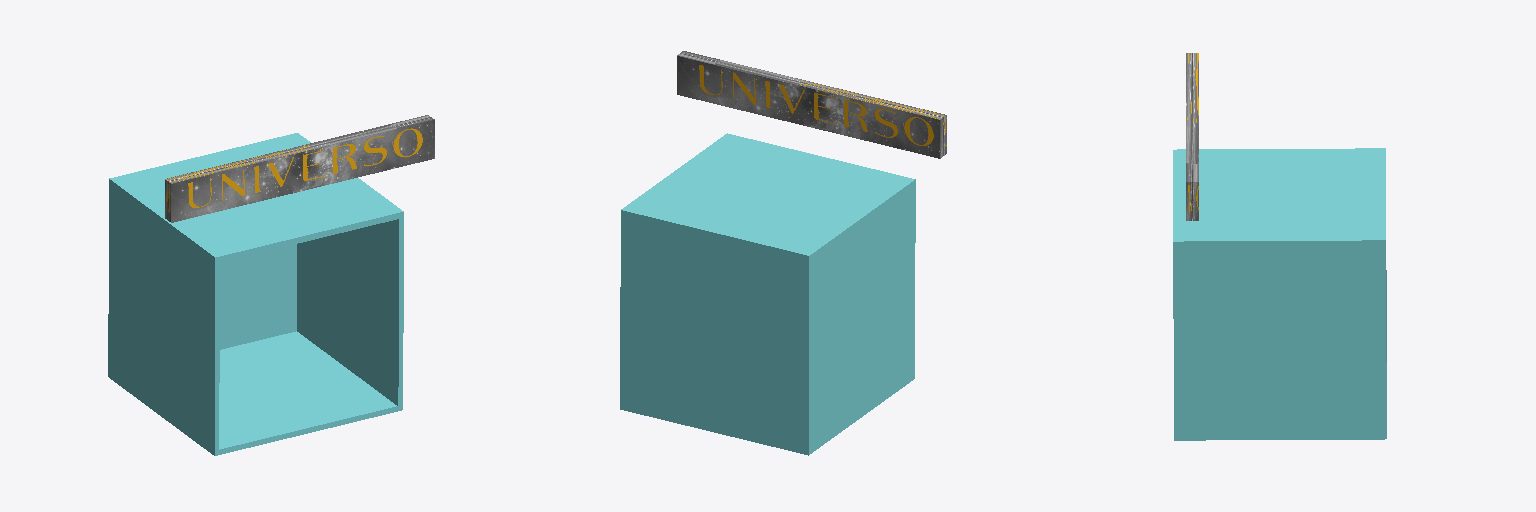
3 renders of one model, left to right at view 1: azimuth 30°, elevation 25°; view 2: azimuth 150°, elevation 25°; view 3: azimuth 270°, elevation 25°, orthographic.
Parts seen in each view (by area): view 1: Cubo, Cube; view 2: Cubo, Cube; view 3: Cubo, Cube.
Part boxes in pixels (left/top/right/bottom): Cubo: left=108, top=133, right=403, bottom=455; Cube: left=165, top=115, right=434, bottom=222; Cubo: left=620, top=133, right=915, bottom=455; Cube: left=677, top=51, right=946, bottom=158; Cubo: left=1173, top=148, right=1386, bottom=440; Cube: left=1186, top=53, right=1198, bottom=220.
Bounding box in the file's own units: 4.12 × 4.14 × 2.89.
Materials: 2 (2 with a texture image).